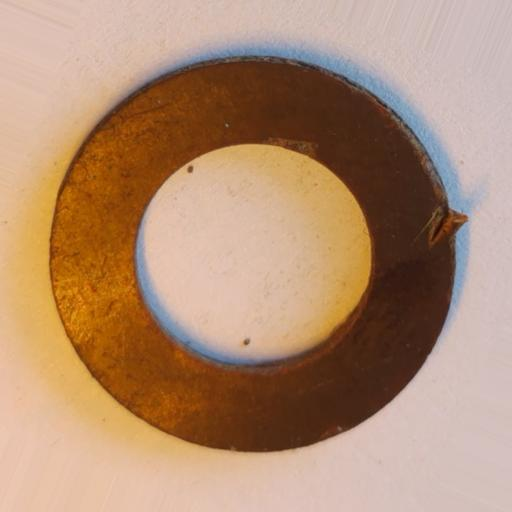defect: (424, 204, 469, 247)
